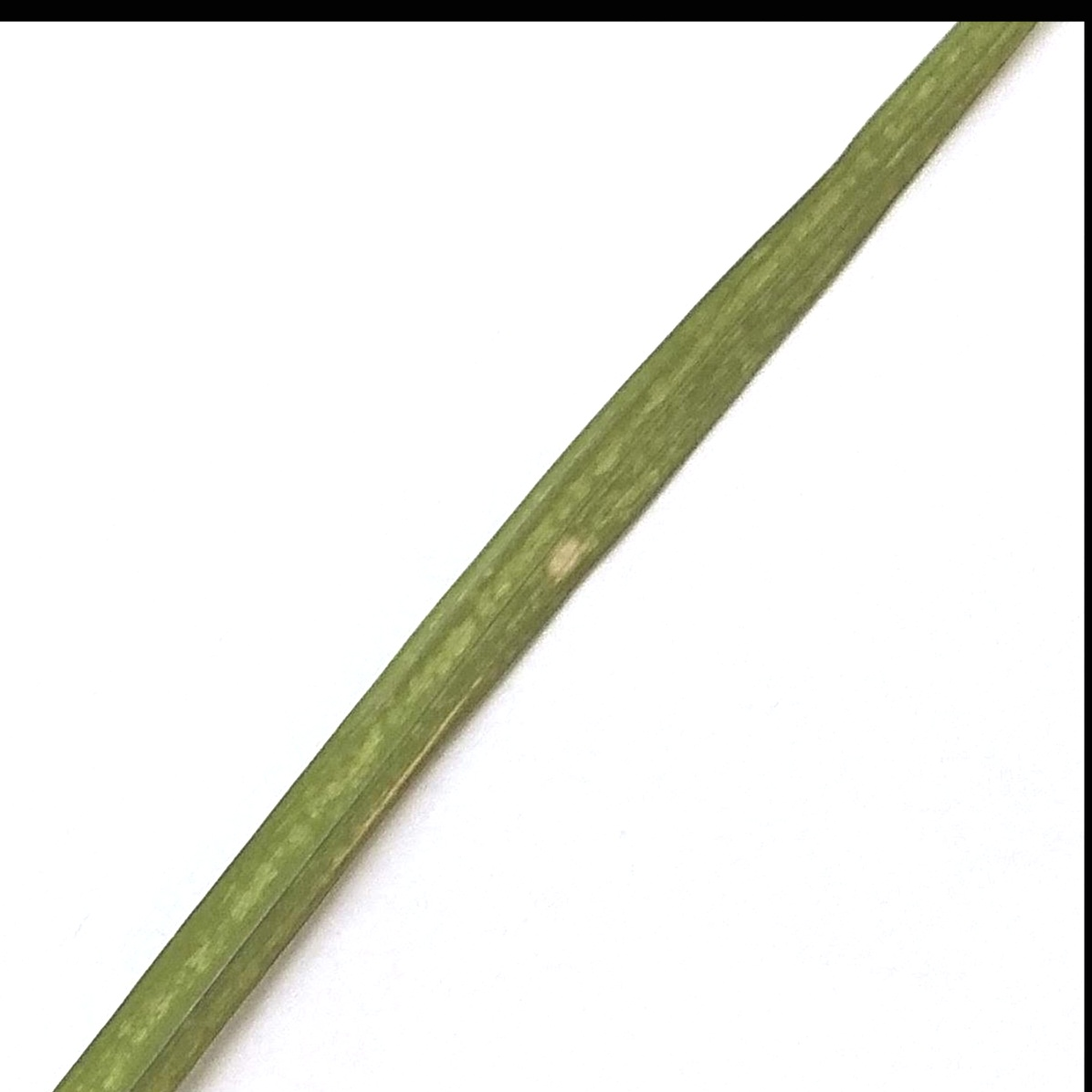Brown_Spot: (534, 519, 604, 596)
